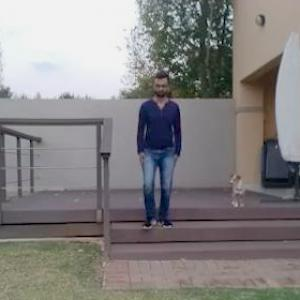follow: (133, 67, 176, 238)
